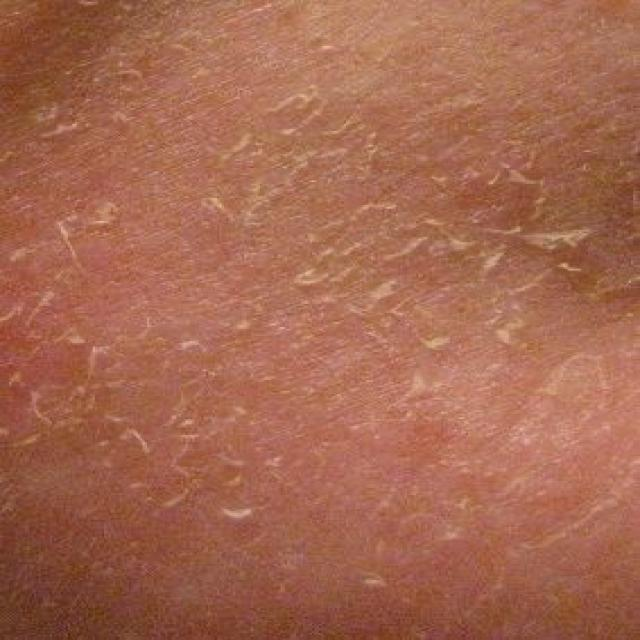Dry-Skin: (102, 272, 274, 387), (219, 90, 328, 241), (446, 164, 545, 306), (364, 11, 552, 76), (45, 50, 111, 113), (54, 210, 124, 251)
